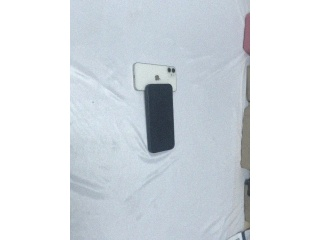phone: (144, 83, 175, 153), (133, 63, 179, 91)
